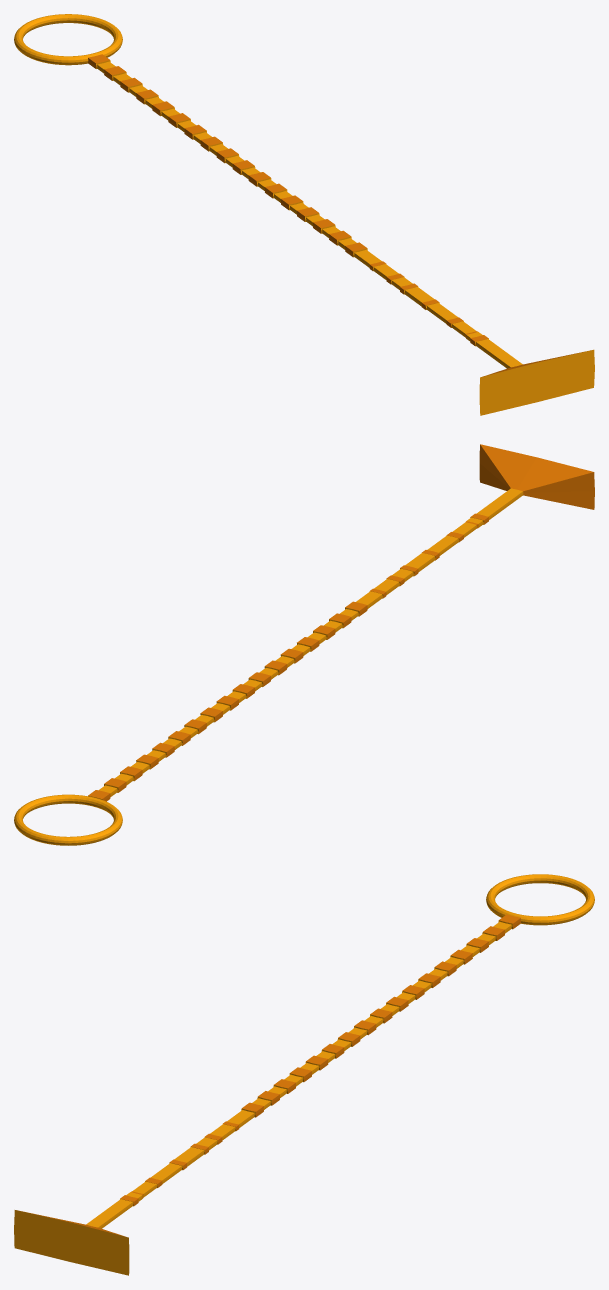
File: rings(2).fbx
3 renders of one model, top to bottom at view 1: azimuth 30°, elevation 25°; view 2: azimuth 150°, elevation 25°; view 3: azimuth 330°, elevation 25°, orthographic.
Visible parts, largest first — view 1: Torus.002; view 2: Torus.002; view 3: Torus.002.
Part boxes in pixels (x1=…): Torus.002: x1=14, y1=14, x2=594, y2=415; Torus.002: x1=14, y1=444, x2=594, y2=845; Torus.002: x1=14, y1=874, x2=594, y2=1275.
Size of the model in its own units: 267 by 86.21 by 1987.
